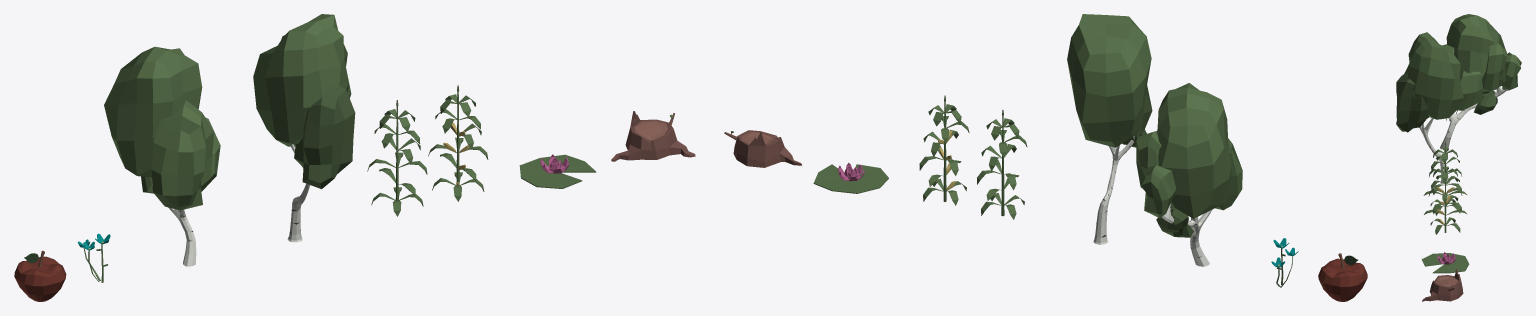
File: Plants.glb
3 renders of one model, left to right at view 1: azimuth 30°, elevation 25°; view 2: azimuth 150°, elevation 25°; view 3: azimuth 270°, elevation 25°, orthographic. The views are drawn at different scales.
Visible parts, largest first — view 1: BirchTree_1, BirchTree_2, TreeStump, Corn_2, Apple, Corn_1, Lilypad, Flowers; view 2: BirchTree_1, BirchTree_2, Corn_2, TreeStump, Corn_1, Lilypad, Apple; view 3: BirchTree_1, BirchTree_2, Corn_2, TreeStump, Lilypad, Corn_1.
Boxes of the visible parts, left/top/right/bottom form: BirchTree_1: left=104, top=46, right=220, bottom=266; BirchTree_2: left=253, top=14, right=355, bottom=242; TreeStump: left=611, top=111, right=695, bottom=161; Corn_2: left=428, top=85, right=488, bottom=201; Apple: left=14, top=250, right=66, bottom=301; Corn_1: left=367, top=100, right=427, bottom=216; Lilypad: left=519, top=154, right=596, bottom=188; Flowers: left=78, top=233, right=110, bottom=282; BirchTree_1: left=1136, top=83, right=1242, bottom=266; BirchTree_2: left=1067, top=14, right=1152, bottom=244; Corn_2: left=919, top=95, right=969, bottom=205; TreeStump: left=724, top=130, right=801, bottom=167; Corn_1: left=977, top=110, right=1027, bottom=219; Lilypad: left=813, top=162, right=888, bottom=193; Apple: left=1318, top=253, right=1367, bottom=301; BirchTree_1: left=1440, top=14, right=1521, bottom=149; BirchTree_2: left=1396, top=32, right=1463, bottom=184; Corn_2: left=1424, top=161, right=1466, bottom=234; TreeStump: left=1422, top=268, right=1463, bottom=301; Lilypad: left=1421, top=252, right=1469, bottom=273; Corn_1: left=1423, top=141, right=1466, bottom=215.
Bounding box in the file's own units: 12.39 × 4.03 × 3.15.
